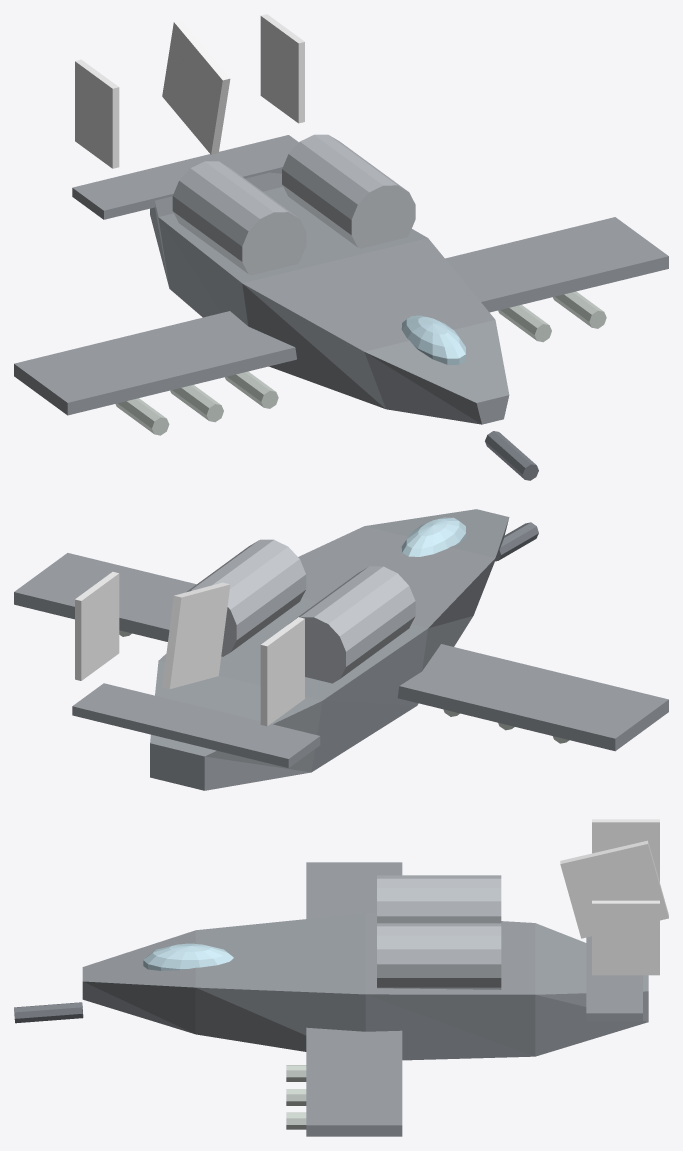
Rendered from attackjet.glb.
3 renders of one model, top to bottom at view 1: azimuth 30°, elevation 25°; view 2: azimuth 150°, elevation 25°; view 3: azimuth 270°, elevation 25°, orthographic. The views are drawn at different scales.
Visible parts, largest first — view 1: main; view 2: main; view 3: main.
Boxes of the visible parts, bbox=[...] form: main: bbox=[14, 14, 668, 480]; main: bbox=[14, 509, 668, 790]; main: bbox=[14, 819, 668, 1136].
Bounding box in the file's own units: 1.1 × 0.3735 × 1.16.
